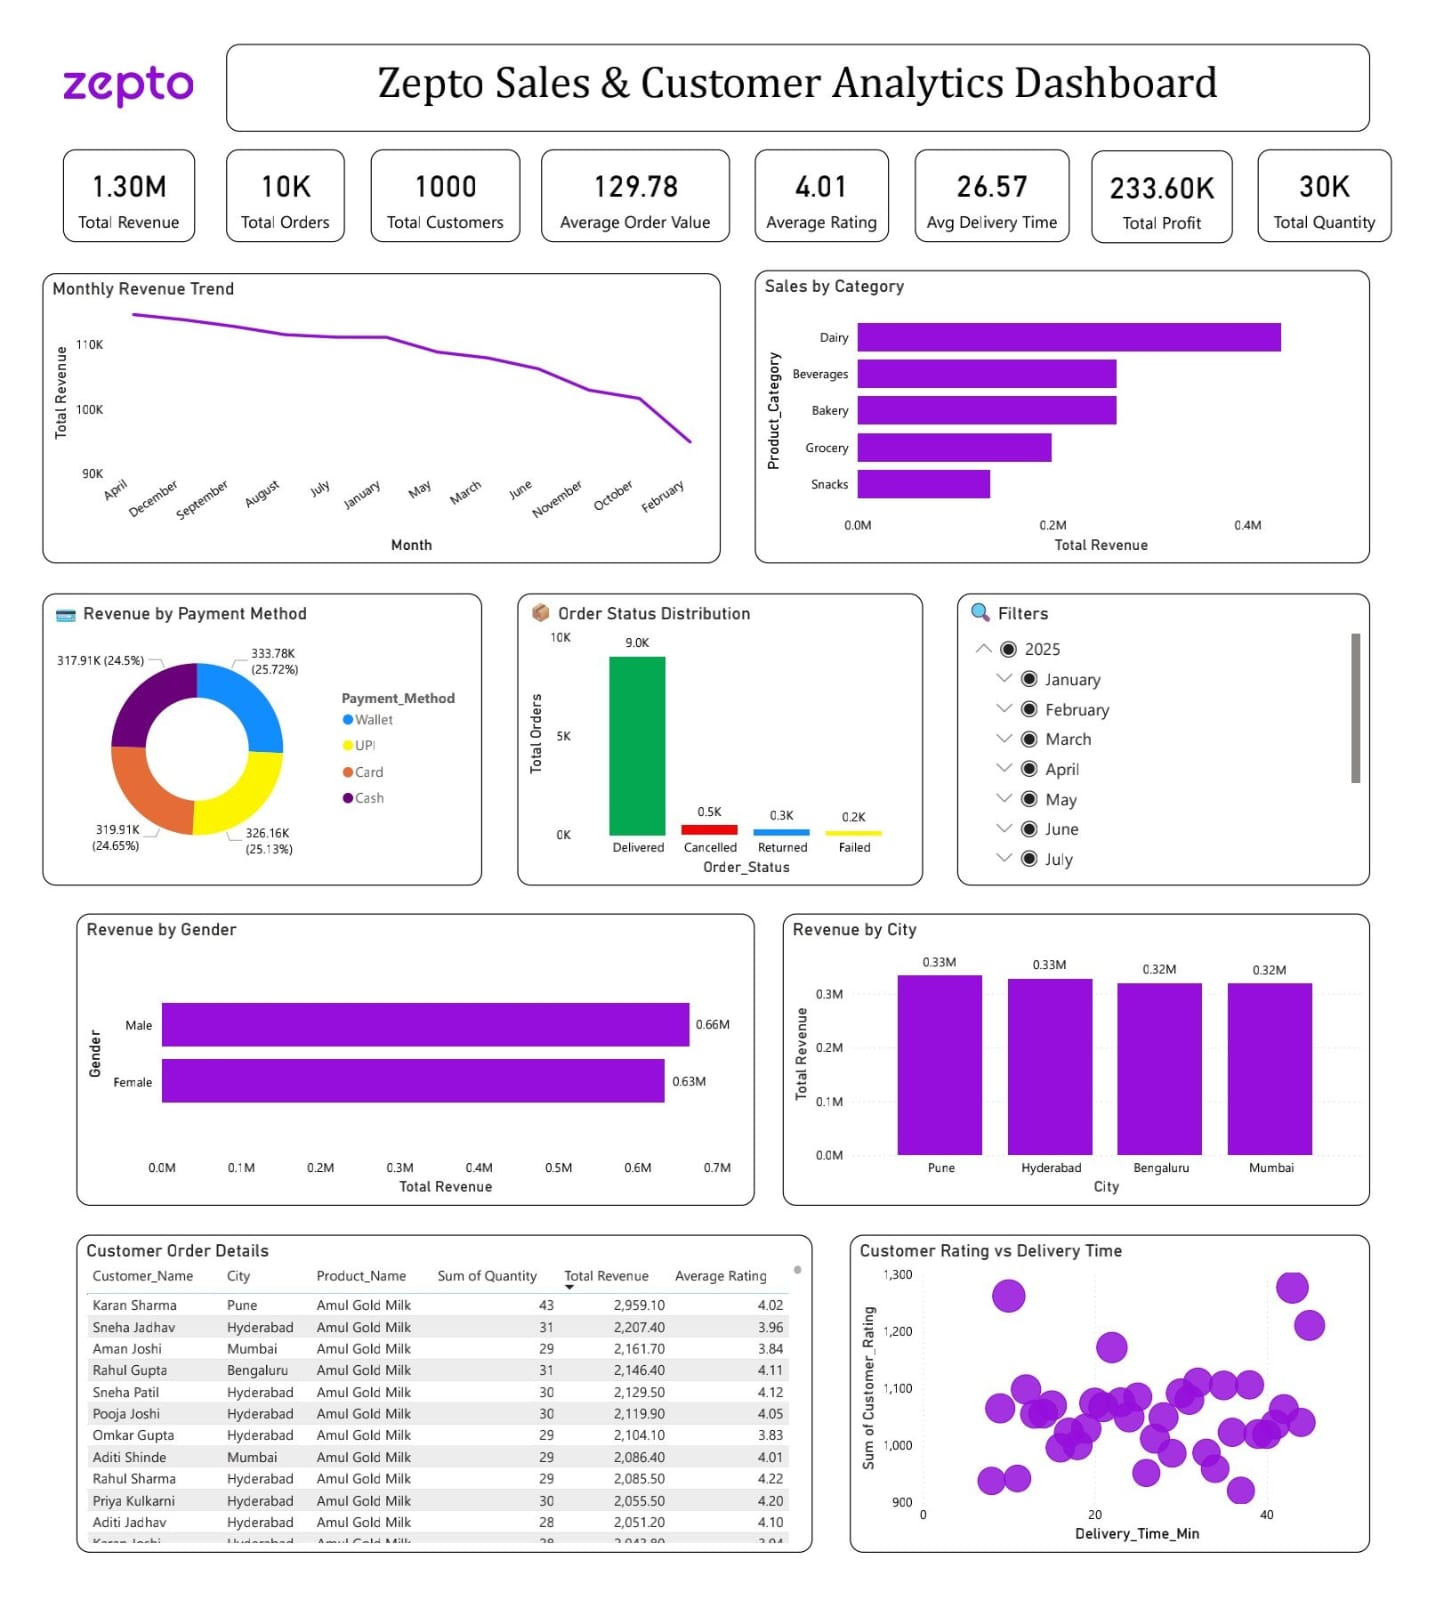

The page's visual inventory and layout, read from the dashboard file:
{"tool":"powerbi","page":{"name":"Overview","canvas":[1350,1500],"ordinal":0},"visuals":[{"type":"card","fields":{"Values":["ZeptoOrders.Total Revenue"]},"box":[36.7,120,128.3,90],"z":0},{"type":"card","fields":{"Values":["ZeptoOrders.Total Orders"]},"box":[195,120,115,90],"z":1},{"type":"card","fields":{"Values":["ZeptoOrders.Total Customers"]},"box":[335,120,145,90],"z":2},{"type":"card","fields":{"Values":["ZeptoOrders.Average Order Value"]},"box":[500,120,183.3,90],"z":3},{"type":"card","fields":{"Values":["ZeptoOrders.Average Rating"]},"box":[706.7,120,130,90],"z":4},{"type":"card","fields":{"Values":["ZeptoOrders.Avg Delivery Time"]},"box":[861.7,120,150,90],"z":5},{"type":"card","fields":{"Values":["ZeptoOrders.Total Profit"]},"box":[1032.9,121.4,137.1,90],"z":6},{"type":"card","fields":{"Values":["ZeptoOrders.Total Quantity"]},"box":[1194.3,120,130,90],"z":7},{"type":"lineChart","title":"Monthly Revenue Trend","fields":{"Category":["Date Table.Month"],"Y":["ZeptoOrders.Total Revenue"]},"box":[17.1,240,657.1,281.4],"z":8},{"type":"clusteredBarChart","title":"Sales by Category","fields":{"Category":["ZeptoOrders.Product_Category"],"Y":["ZeptoOrders.Total Revenue"]},"box":[707.1,237.1,595.7,284.3],"z":9},{"type":"donutChart","title":"💳 Revenue by Payment Method","fields":{"Y":["ZeptoOrders.Total Revenue"],"Category":["ZeptoOrders.Payment_Method"]},"box":[17.1,550,425.7,282.9],"z":10},{"type":"columnChart","title":"Revenue by City","fields":{"Category":["ZeptoOrders.City"],"Y":["ZeptoOrders.Total Revenue"]},"box":[734.3,860,568.6,282.9],"z":11},{"type":"lineStackedColumnComboChart","title":"📦 Order Status Distribution","fields":{"Category":["ZeptoOrders.Order_Status"],"Y":["ZeptoOrders.Total Orders"]},"box":[477.1,550,392.9,282.9],"z":13},{"type":"barChart","title":"Revenue by Gender","fields":{"Category":["ZeptoOrders.Gender"],"Y":["ZeptoOrders.Total Revenue"]},"box":[50,860,657.1,282.9],"z":14},{"type":"scatterChart","title":"Customer Rating vs Delivery Time ","fields":{"X":["ZeptoOrders.Delivery_Time_Min"],"Y":["Sum(ZeptoOrders.Customer_Rating)"],"Size":["ZeptoOrders.Total Revenue"]},"box":[798.6,1171.4,504.3,307.1],"z":15},{"type":"tableEx","title":"Customer Order Details","fields":{"Values":["ZeptoOrders.Customer_Name","ZeptoOrders.City","ZeptoOrders.Product_Name","Sum(ZeptoOrders.Quantity)","ZeptoOrders.Total Revenue","ZeptoOrders.Average Rating"]},"box":[50,1171.4,712.9,307.1],"z":16},{"type":"slicer","title":"🔍 Filters ","fields":{"Values":["Date Table.Year","Date Table.Month","ZeptoOrders.City","ZeptoOrders.Product_Category","ZeptoOrders.Gender","ZeptoOrders.Payment_Method","ZeptoOrders.Order_Status"]},"box":[902.9,550,400,282.9],"z":17},{"type":"textbox","box":[195,18.3,1108.3,85],"z":18},{"type":"image","box":[37.5,27.5,125,65],"z":19}]}

Visuals, with their boxes in screenshot pixels (x1, y1, x2, y2), scaled from the page's 1350x1500 canvas onto the 1444x1600 screenshot:
card - ZeptoOrders.Total Revenue: (39,128,176,224)
card - ZeptoOrders.Total Orders: (209,128,332,224)
card - ZeptoOrders.Total Customers: (358,128,513,224)
card - ZeptoOrders.Average Order Value: (535,128,731,224)
card - ZeptoOrders.Average Rating: (756,128,895,224)
card - ZeptoOrders.Avg Delivery Time: (922,128,1082,224)
card - ZeptoOrders.Total Profit: (1105,129,1251,225)
card - ZeptoOrders.Total Quantity: (1277,128,1417,224)
"Monthly Revenue Trend" lineChart: (18,256,721,556)
"Sales by Category" clusteredBarChart: (756,253,1394,556)
"💳 Revenue by Payment Method" donutChart: (18,587,474,888)
"Revenue by City" columnChart: (785,917,1394,1219)
"📦 Order Status Distribution" lineStackedColumnComboChart: (510,587,931,888)
"Revenue by Gender" barChart: (53,917,756,1219)
"Customer Rating vs Delivery Time " scatterChart: (854,1249,1394,1577)
"Customer Order Details" tableEx: (53,1249,816,1577)
"🔍 Filters " slicer: (966,587,1394,888)
textbox: (209,20,1394,110)
image: (40,29,174,99)
